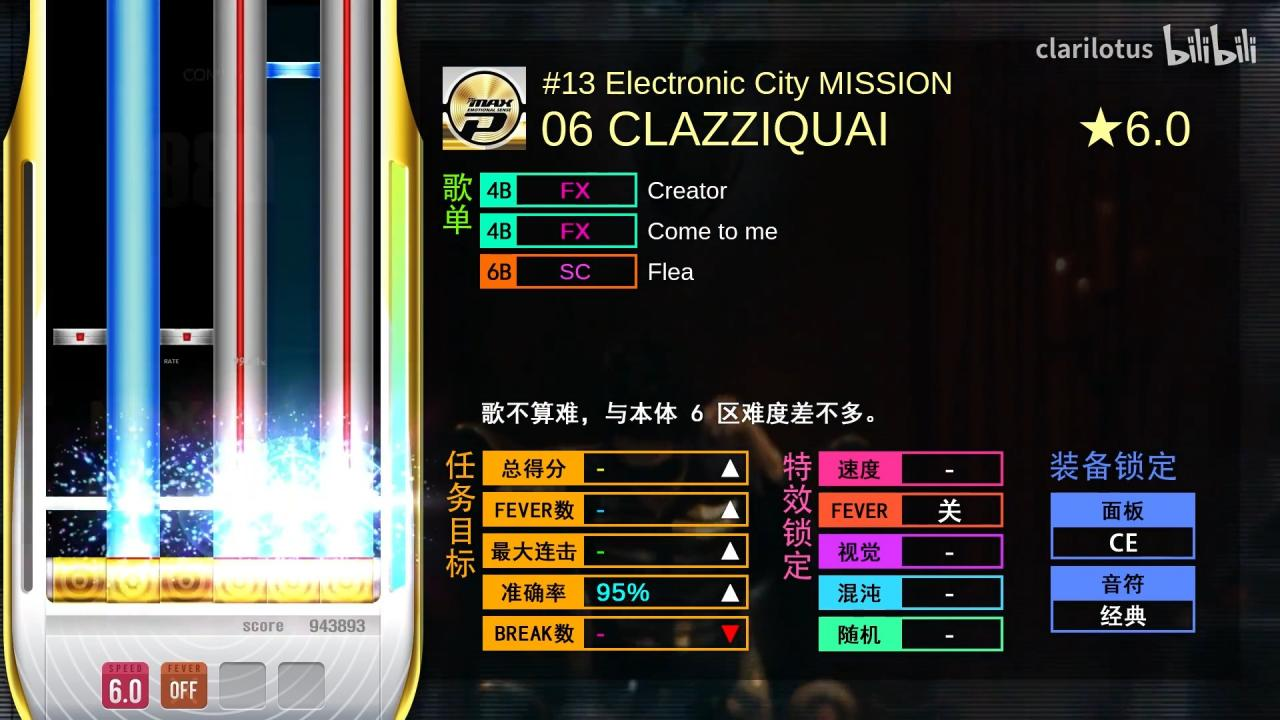note: (160, 328, 215, 345), (267, 62, 321, 79), (53, 329, 107, 344)
